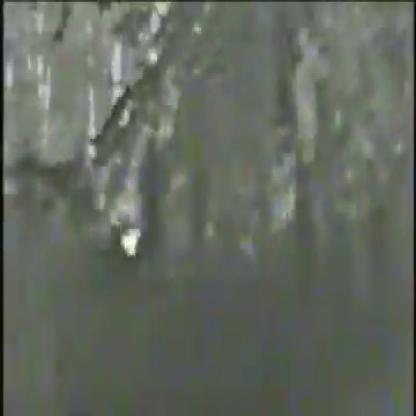rehkitze: (120, 225, 145, 263)
